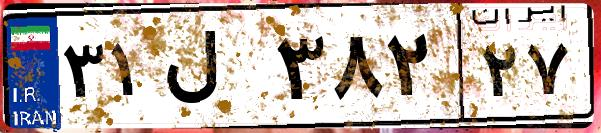1: (110, 28, 158, 98)
2: (385, 28, 445, 110), (475, 38, 525, 113)
3: (270, 28, 330, 110), (57, 26, 110, 100)
7: (525, 38, 570, 115)
8: (330, 28, 385, 110)
ل: (158, 20, 270, 120)
